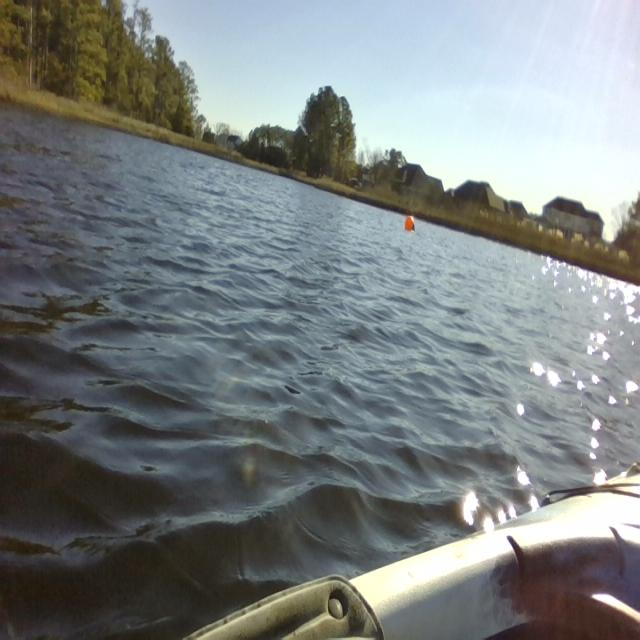Buoy: (402, 210, 420, 234)
